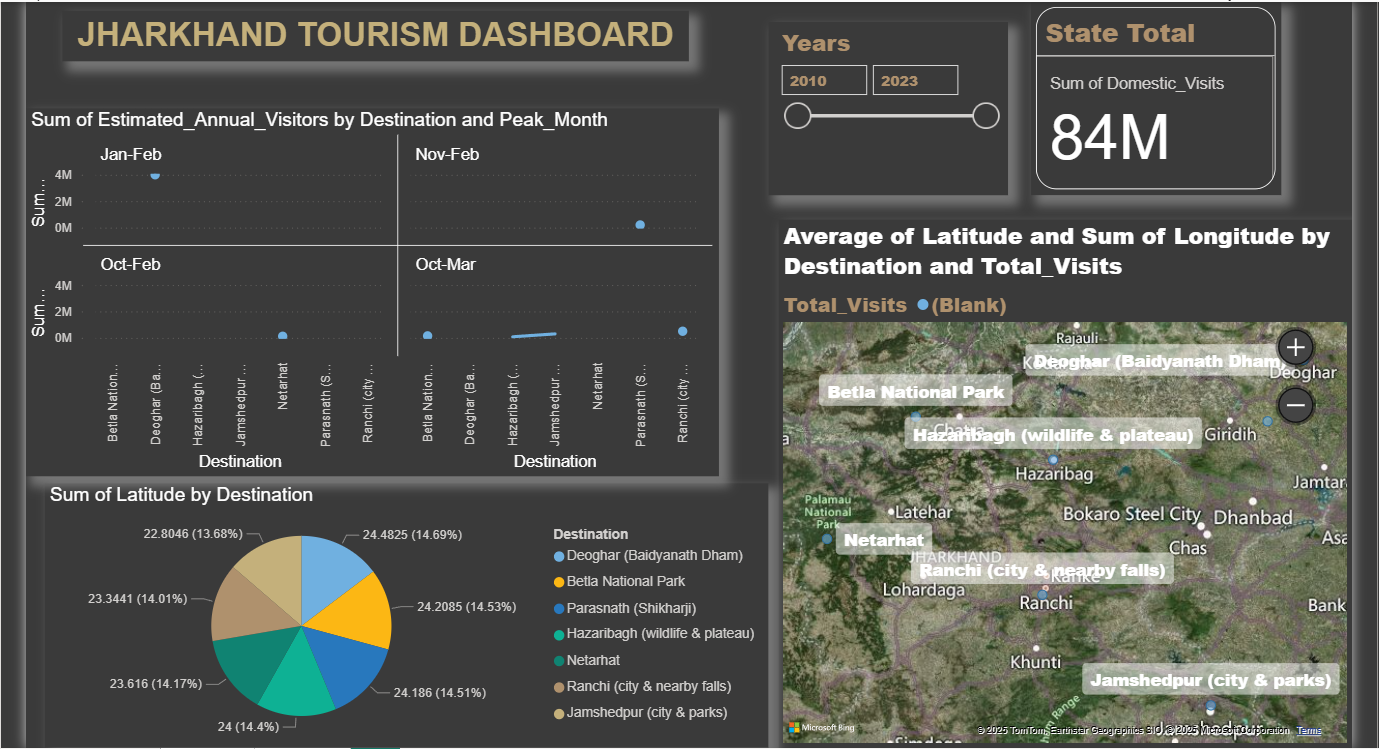

Layout of this report page (visuals, bound fields, positions):
{"tool":"powerbi","page":{"name":"Page 1","canvas":[1280,720],"ordinal":0},"visuals":[{"type":"cardVisual","fields":{"Rows":["jharkhand_tourism_sample.Category"],"Data":["Sum(jharkhand_tourism_sample.Domestic_Visits)"]},"box":[970,0,241.2,186.2],"z":0},{"type":"map","fields":{"Category":["jharkhand_tourism_sample.Destination"],"Series":["jharkhand_tourism_sample.Total_Visits"],"Y":["Avg(jharkhand_tourism_sample.Latitude)"],"X":["Sum(jharkhand_tourism_sample.Longitude)"]},"box":[726,210,554,510],"z":1000},{"type":"pieChart","fields":{"Y":["Sum(jharkhand_tourism_sample.Latitude)"],"Category":["jharkhand_tourism_sample.Destination"]},"box":[17.5,465,698.8,255],"z":2000},{"type":"lineChart","fields":{"Category":["jharkhand_tourism_sample.Destination"],"Y":["Sum(jharkhand_tourism_sample.Estimated_Annual_Visitors)"],"Rows":["jharkhand_tourism_sample.Peak_Month"]},"box":[0,102.5,668.8,355],"z":3000},{"type":"textbox","box":[35,8.8,605,48.8],"z":4000},{"type":"slicer","fields":{"Values":["jharkhand_tourism_sample.Year"]},"box":[716.2,18.8,231.2,167.5],"z":5000}]}

Visuals, with their boxes on the page's 1280x720 design canvas (x1, y1, x2, y2). These are canvas units, not pixel positions in the 1379x749 screenshot, which may show the page scaled, cropped or inside an application window:
cardVisual - jharkhand_tourism_sample.Category x Sum(jharkhand_tourism_sample.Domestic_Visits): rect(970, 0, 1211, 186)
map - jharkhand_tourism_sample.Destination x jharkhand_tourism_sample.Total_Visits: rect(726, 210, 1280, 720)
pieChart - Sum(jharkhand_tourism_sample.Latitude) x jharkhand_tourism_sample.Destination: rect(18, 465, 716, 720)
lineChart - jharkhand_tourism_sample.Destination x Sum(jharkhand_tourism_sample.Estimated_Annual_Visitors): rect(0, 102, 669, 458)
textbox: rect(35, 9, 640, 58)
slicer - jharkhand_tourism_sample.Year: rect(716, 19, 947, 186)
